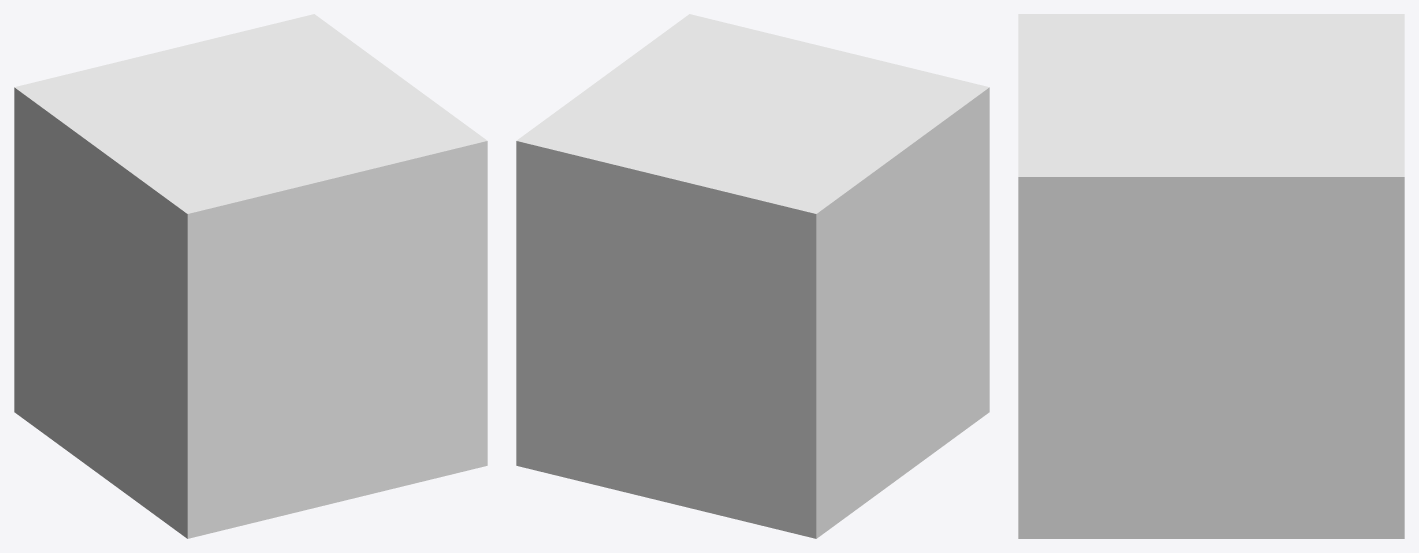
File: light.glb
The picture shows the model from 3 angles, left to right: view 1: azimuth 30°, elevation 25°; view 2: azimuth 150°, elevation 25°; view 3: azimuth 270°, elevation 25°; orthographic projection. The views are drawn at different scales.
Parts seen in each view (by area): view 1: Light; view 2: Light; view 3: Light.
Boxes of the visible parts, x1=… form: Light: x1=14, y1=14, x2=487, y2=538; Light: x1=516, y1=14, x2=989, y2=538; Light: x1=1018, y1=14, x2=1404, y2=538.
Size of the model in its own units: 0.3751 by 0.3879 by 0.3751.
1 material, 1 textured.
